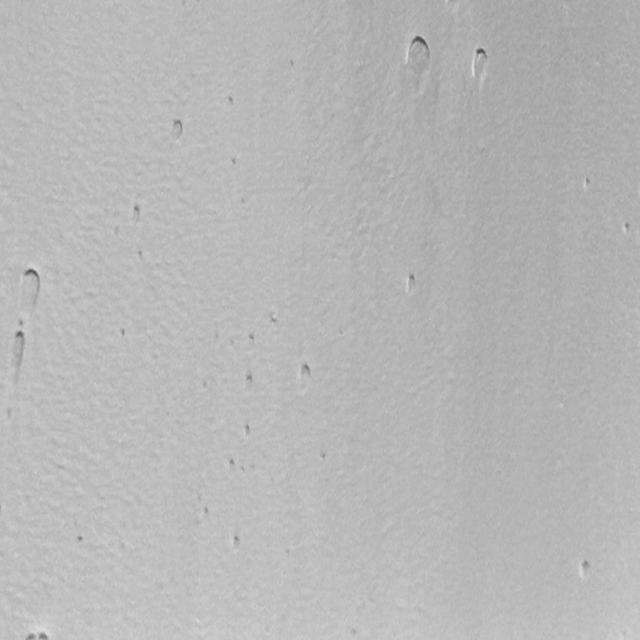pin holes: (401, 31, 436, 82), (2, 331, 32, 388), (17, 266, 46, 312), (468, 46, 492, 80), (165, 116, 186, 143), (400, 272, 421, 299), (295, 360, 315, 387), (575, 558, 596, 583), (238, 370, 256, 394), (226, 534, 242, 555), (23, 628, 50, 639), (128, 202, 142, 223), (237, 420, 251, 439), (71, 533, 86, 550), (579, 176, 592, 194), (226, 154, 239, 171), (224, 457, 237, 473), (223, 94, 236, 110), (284, 56, 297, 72), (198, 506, 210, 523), (115, 327, 128, 342), (316, 449, 329, 464), (618, 222, 630, 238), (132, 247, 144, 263), (245, 332, 257, 347)
